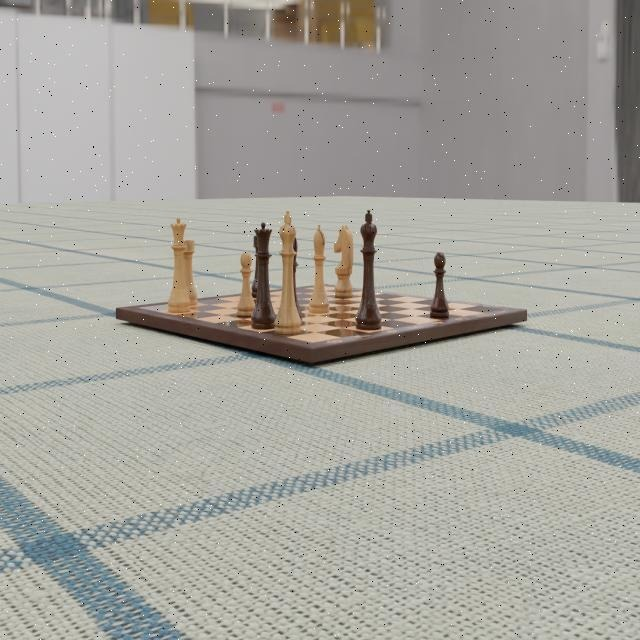black-bishop: (307, 222, 332, 318)
black-king: (354, 203, 383, 329)
black-pawn: (428, 249, 448, 319)
black-queen: (251, 221, 277, 327)
black-rook: (251, 230, 267, 299)
white-king: (275, 210, 303, 333)
white-knight: (333, 221, 355, 299)
white-pawn: (236, 249, 255, 315)
white-queen: (165, 215, 190, 317)
white-rook: (180, 237, 200, 307)
